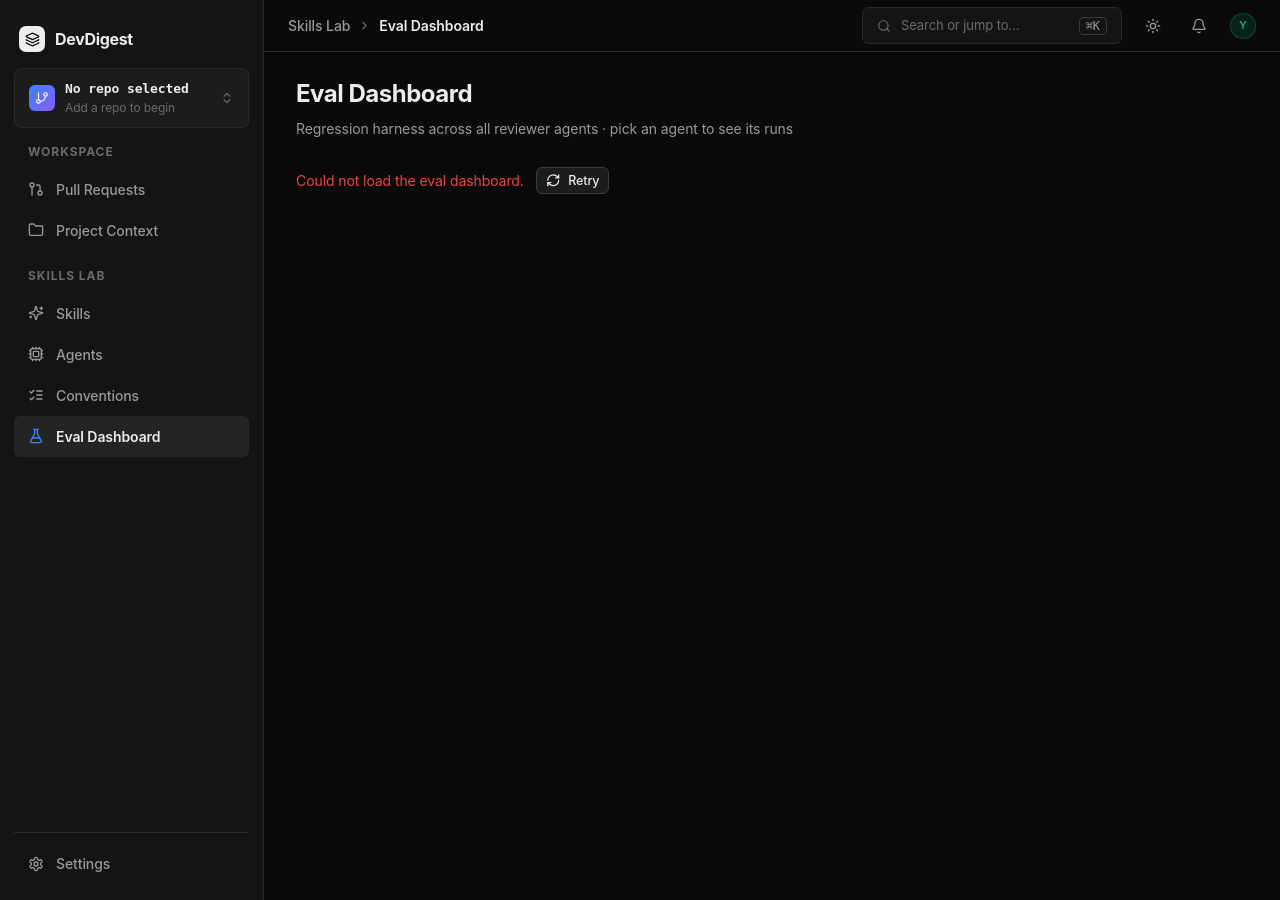
Scenario: EvalDashboard › offers a retry when the read fails and shows no Run all agents control until it loads
Expected: the text "Could not load the eval dashboard." is shown, [296, 172, 524, 189]
Expected: the button "run all agents" is not shown
Click the button "Retry": (573, 180) [536, 167, 609, 194]
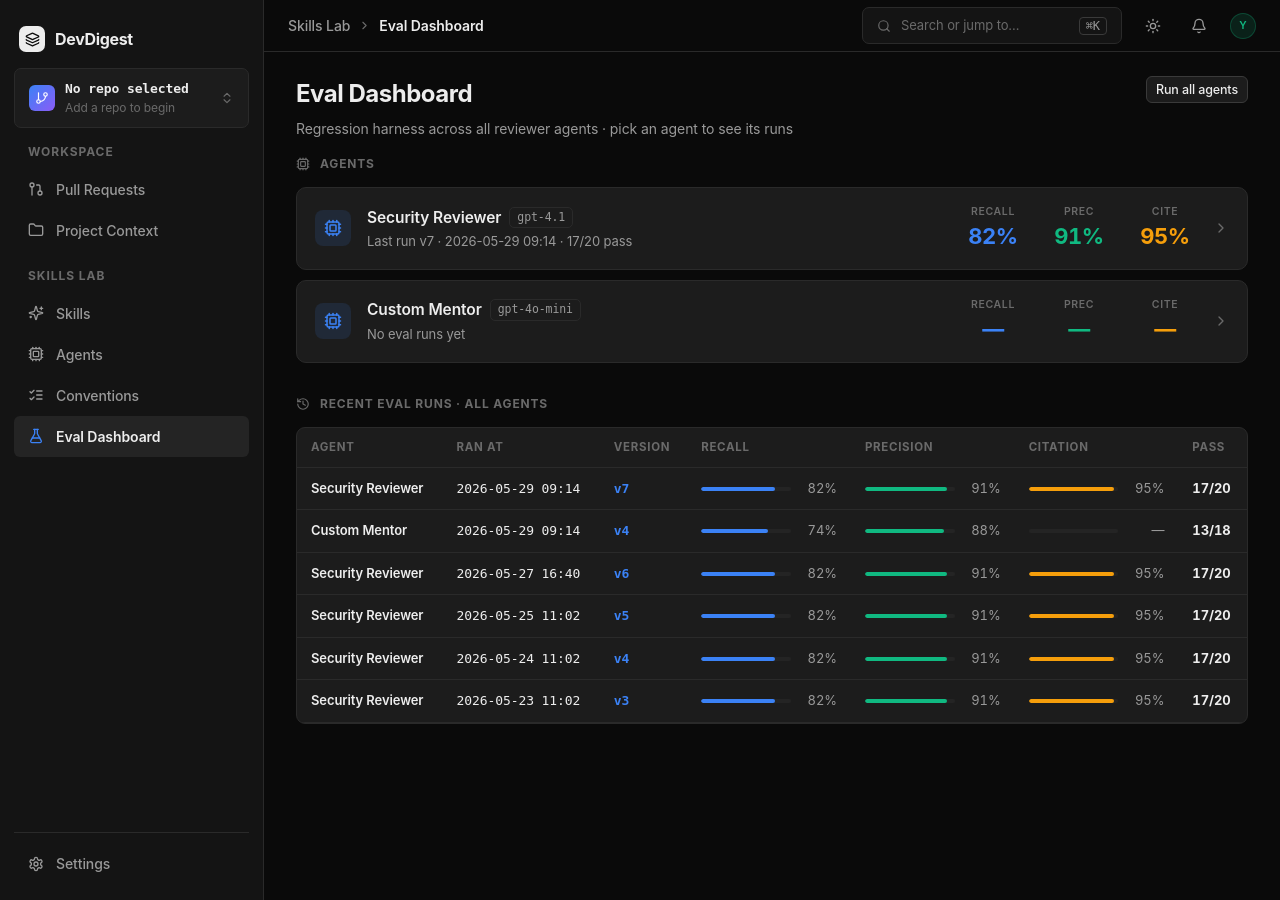
Result: the text "gpt-4.1" is shown at [509, 206, 573, 228]
